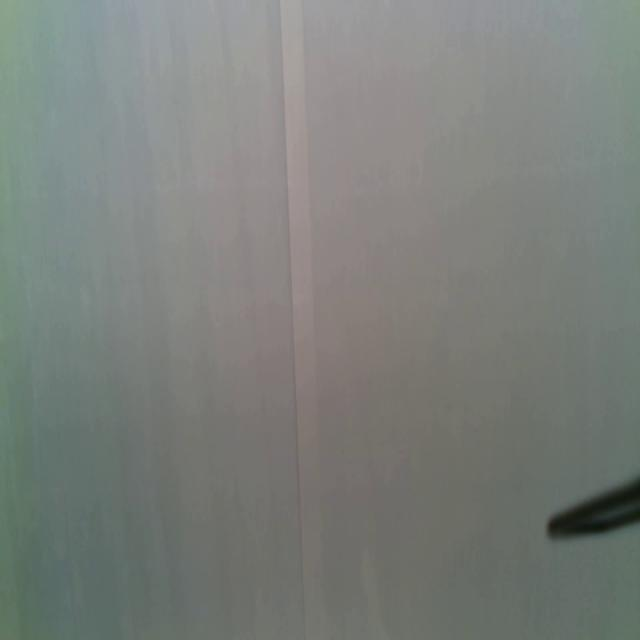crease: (280, 0, 306, 640)
